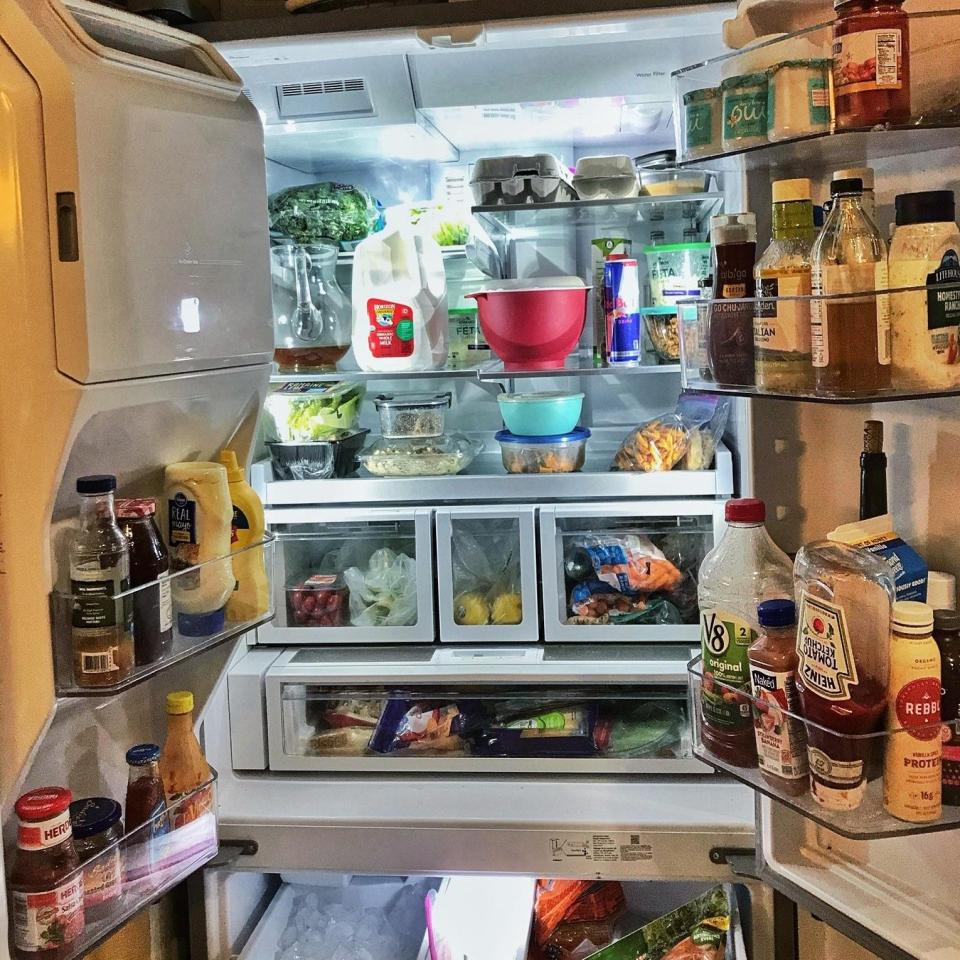Huevos: (470, 152, 576, 204), (572, 155, 640, 199)
Leche: (352, 210, 449, 372)
Limón: (456, 592, 489, 626), (493, 592, 523, 624)
Tomate: (287, 572, 345, 627)
Zanahoria: (598, 552, 680, 592), (572, 586, 648, 616)
